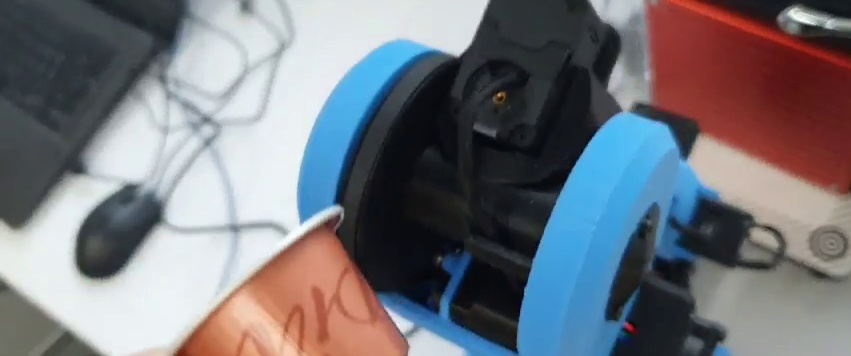capsule_6: (162, 204, 409, 356)
